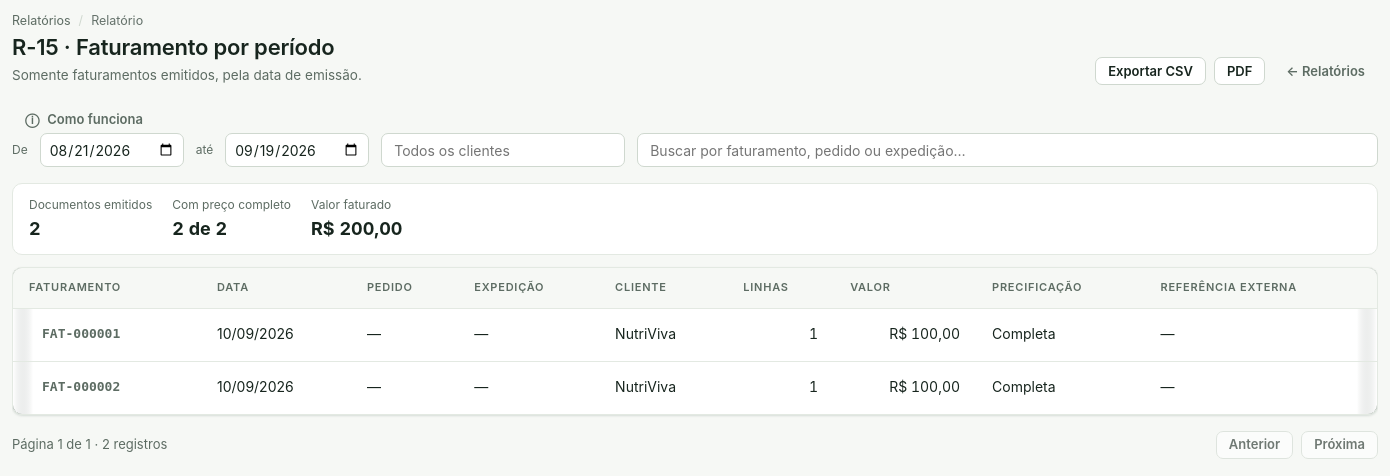
Test: filtro novo: nada do recorte anterior até a resposta nova › busca: resultado vazio só aparece como vazio depois da resposta
The width and height of the screenshot is (1390, 476).
In the search field: (1008, 150) [637,133,1378,167], type "FAT-9"
Wait 300 ms
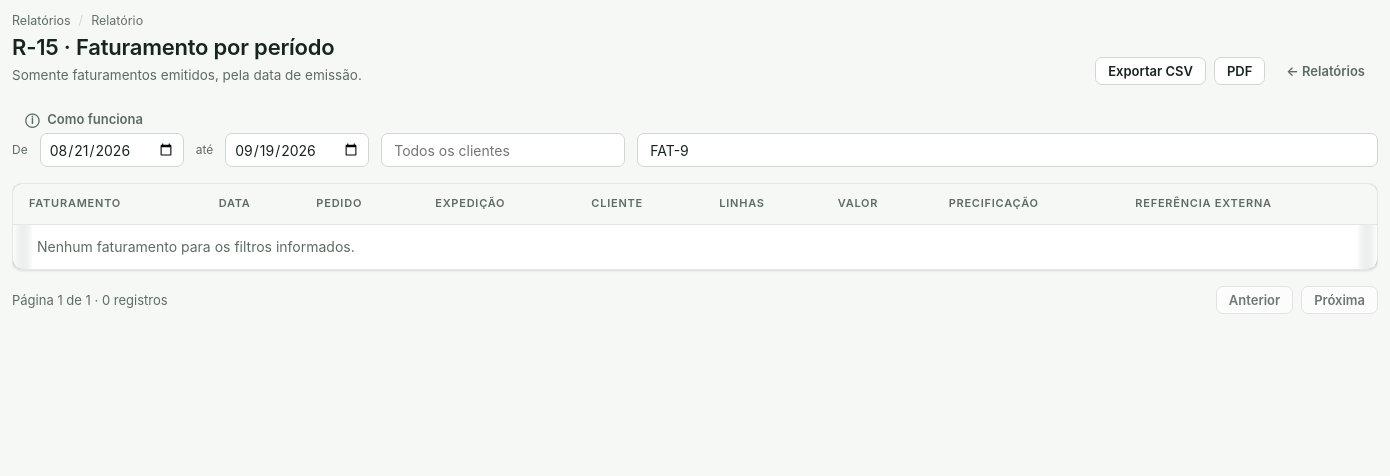
Expected: the element with class "report-summary" is gone
Expected: the text "Nenhum faturamento para os filtros informados." is shown, [37,238,355,255]
